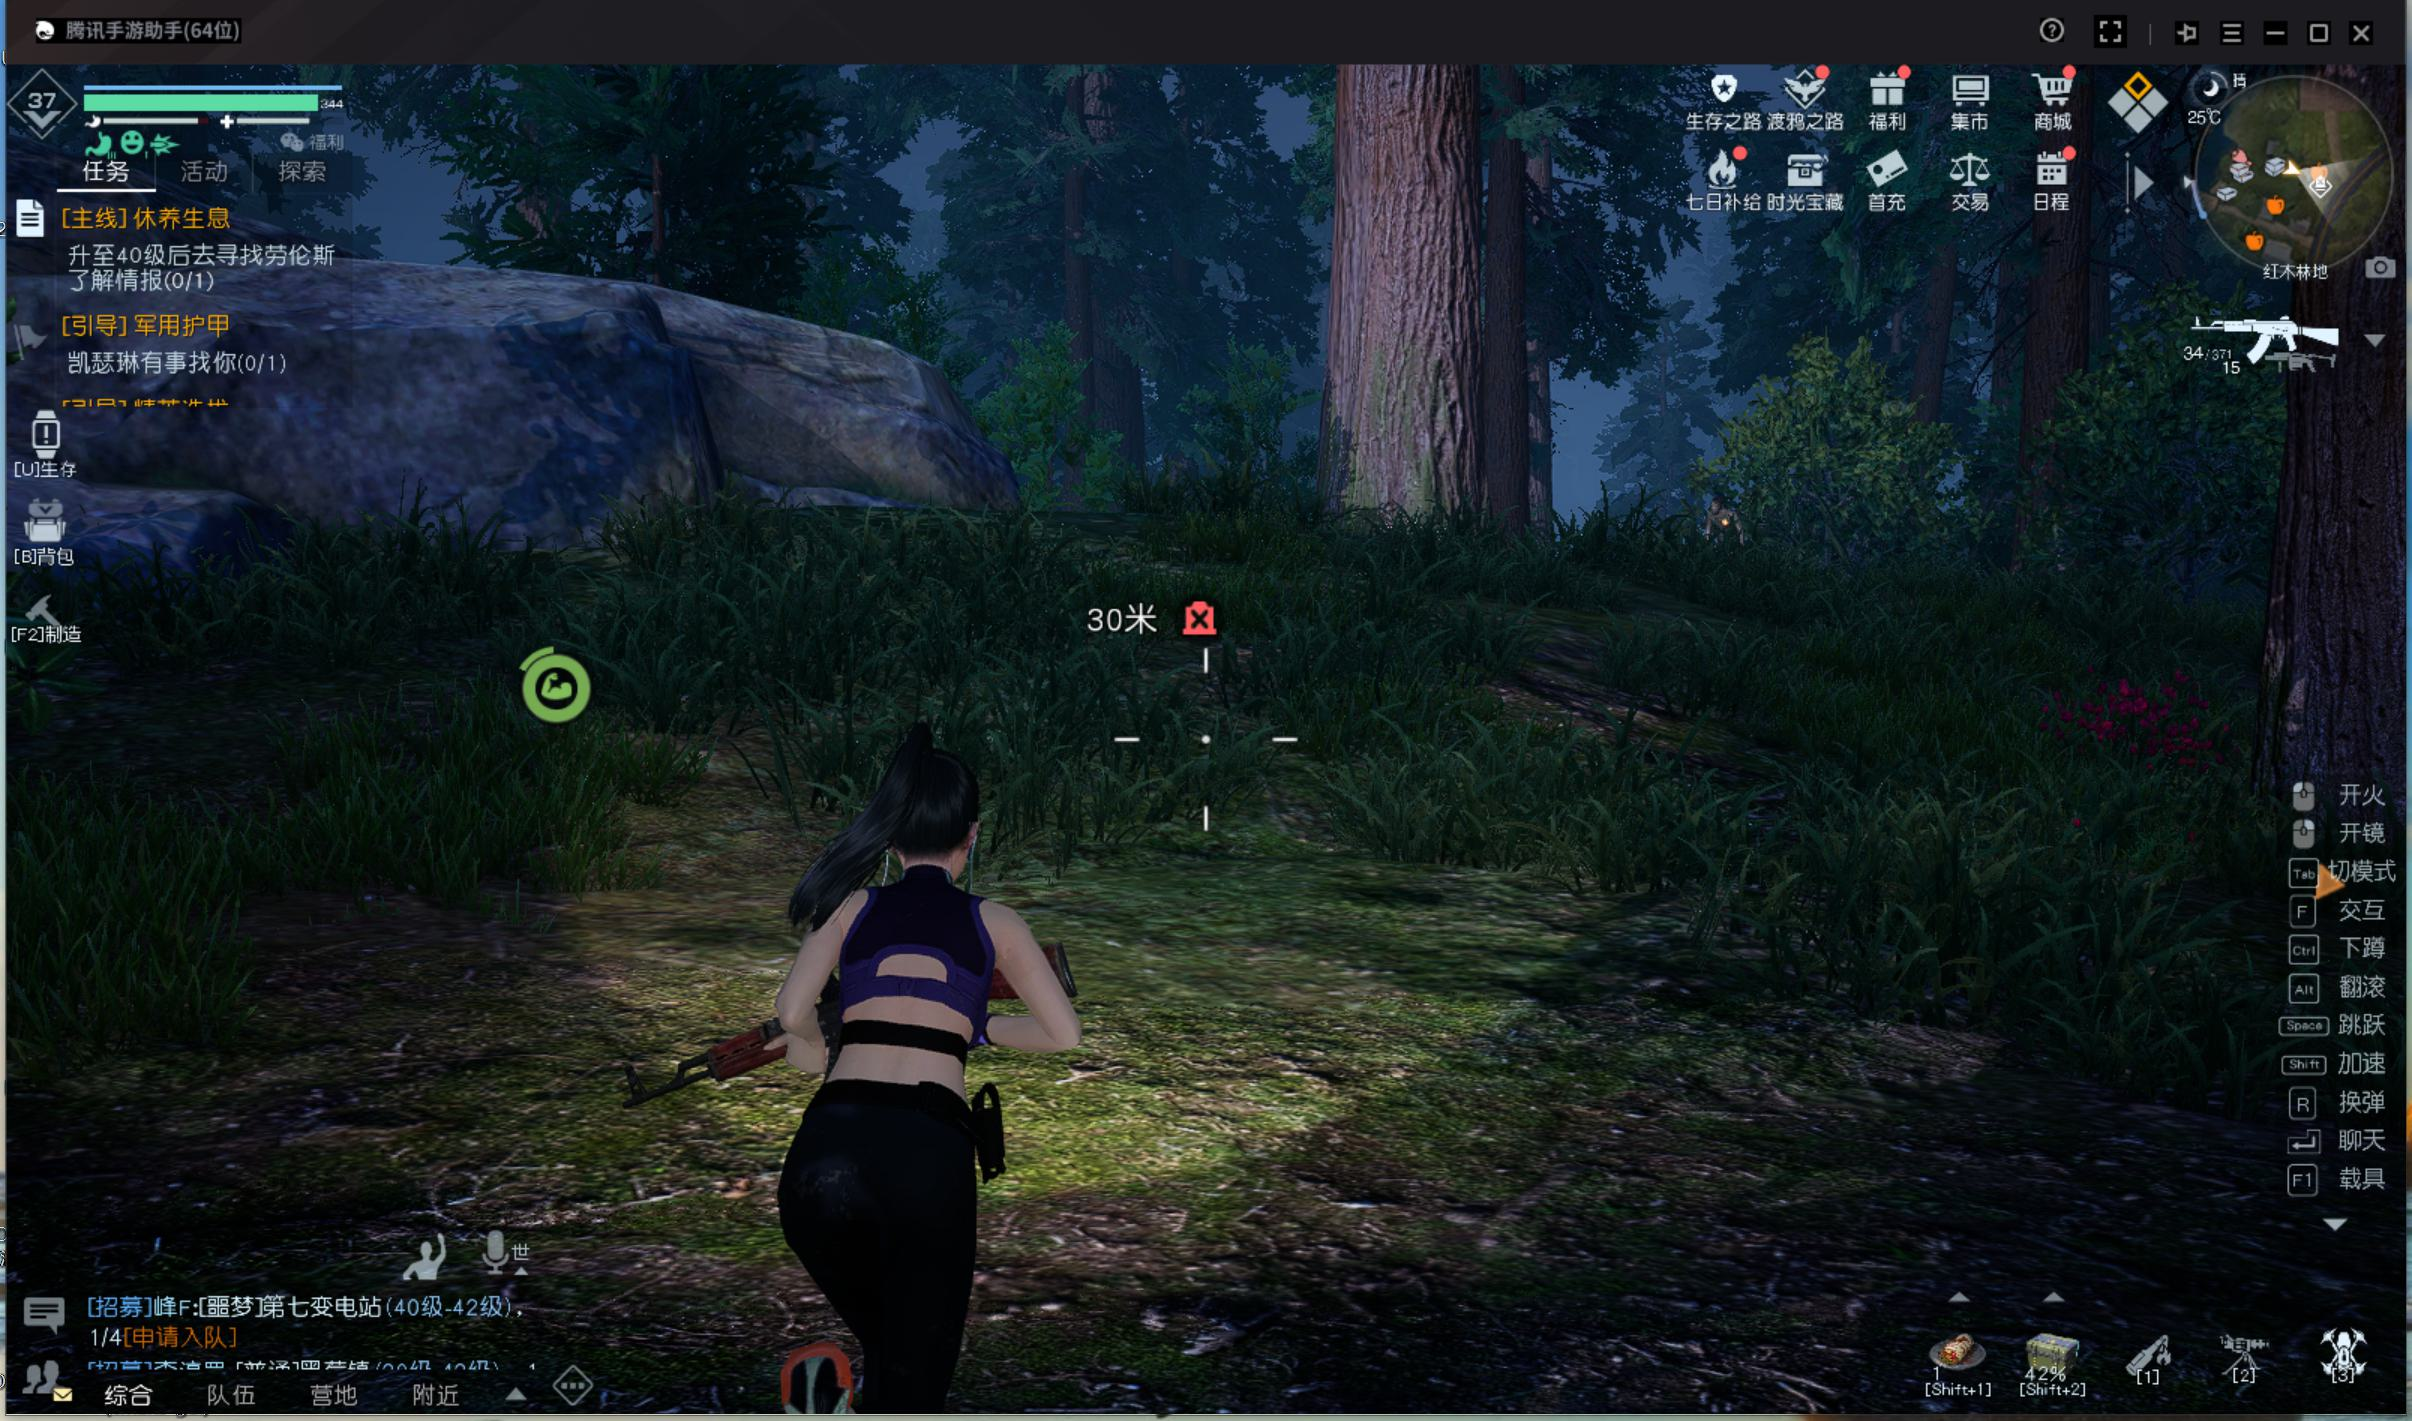tree: (1323, 98, 1478, 541)
